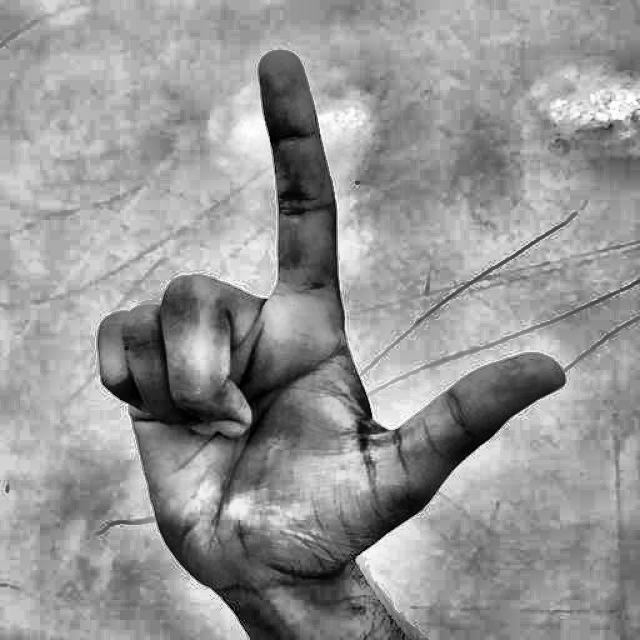La: (48, 24, 578, 636)
